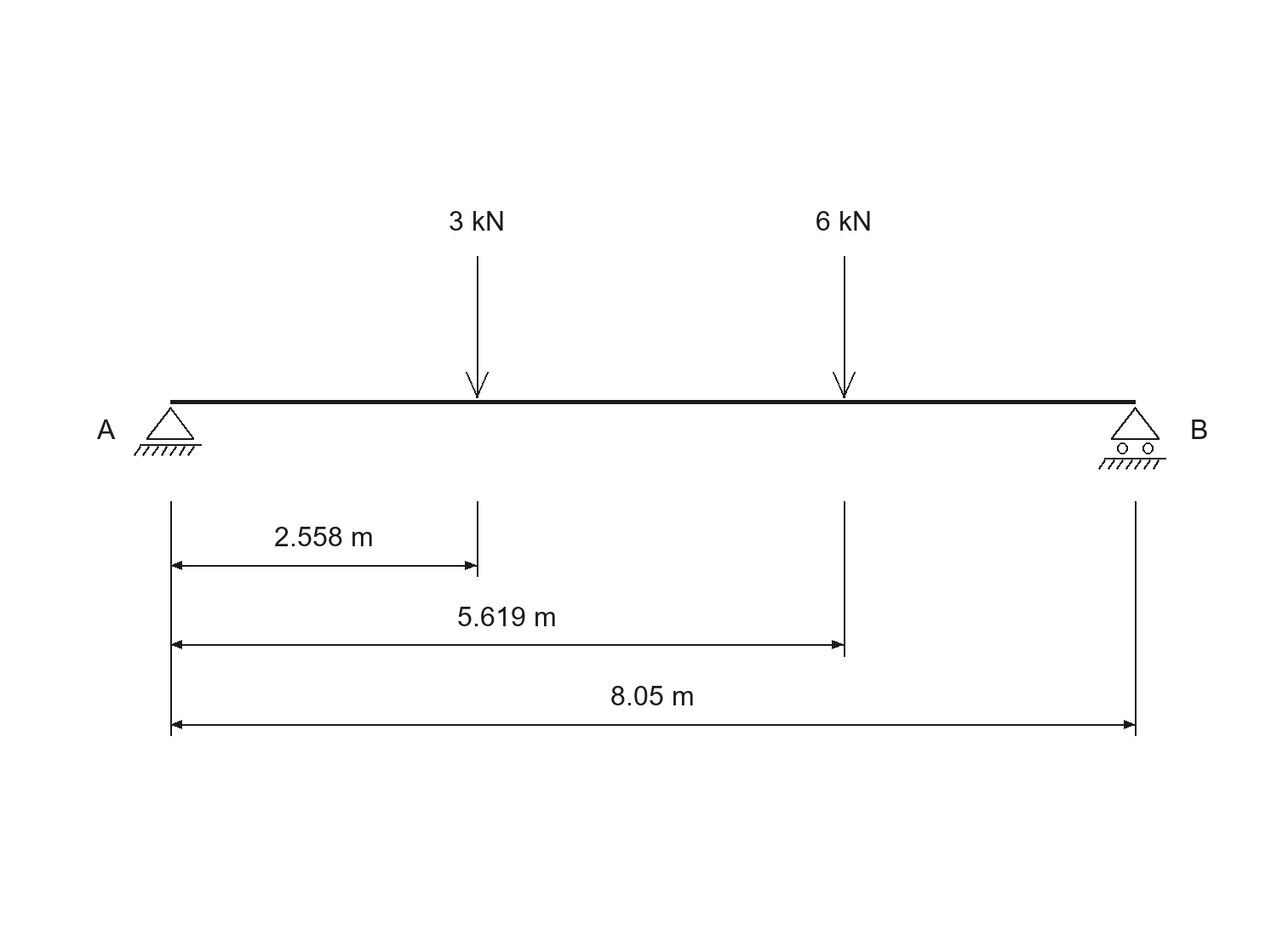pin_support: (134, 407, 202, 456)
point_load: (466, 256, 489, 398), (833, 256, 856, 398)
roller_support: (1098, 407, 1166, 470)
